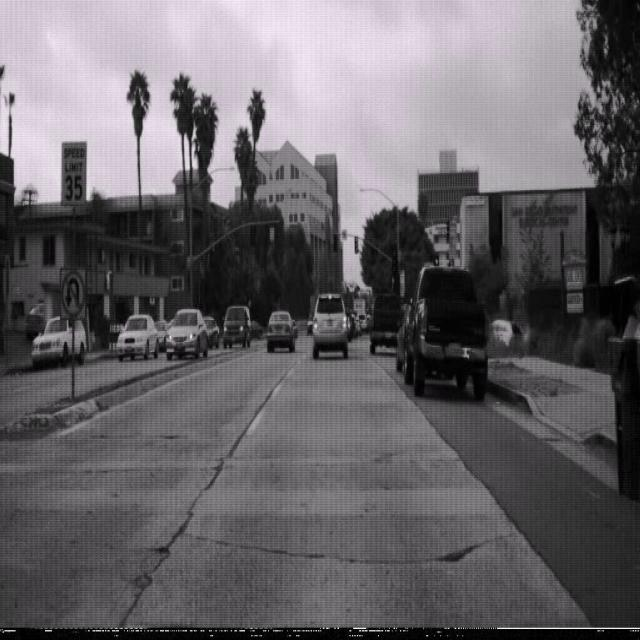speedLimit35: (59, 139, 87, 206)
